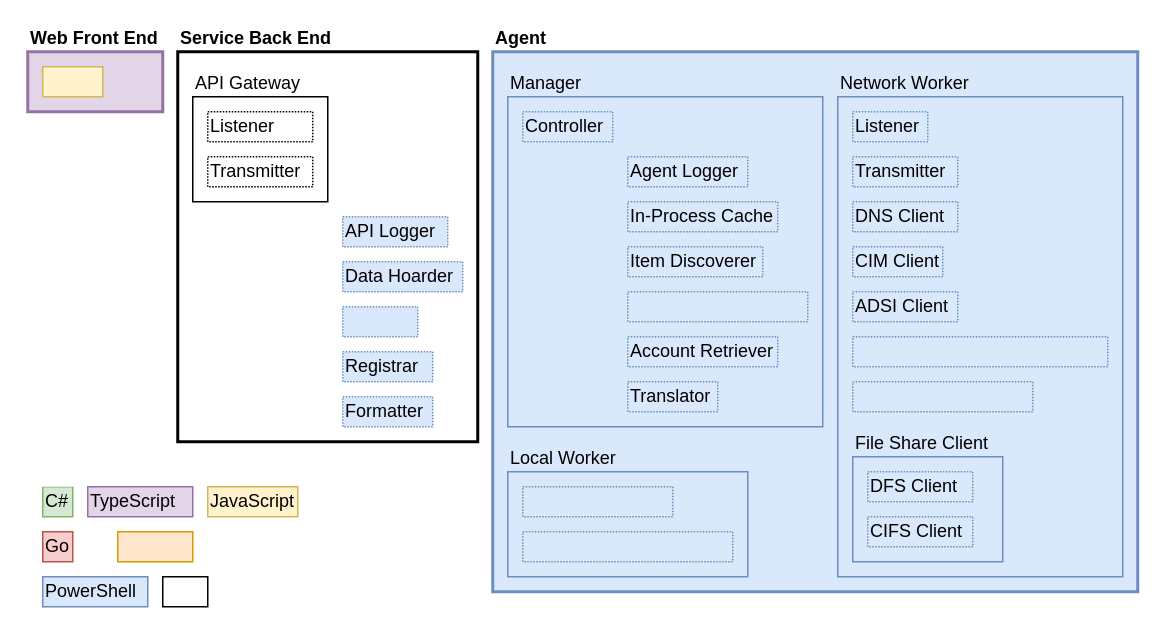
This 1164x633 diagram has some shape labels left out. The centre of each missing label's shape, as x and y in pixels:
"ActiveDirectorySecurity Client" goes at pixel 979 351.
"File System Client" goes at pixel 597 501.
"Handler" goes at pixel 379 321.
"LANGUAGE LEGEND" goes at pixel 124 471.
"N/A" goes at pixel 184 591.
"Node.js" goes at pixel 154 546.
"Permission Retriever" goes at pixel 717 306.
"PnP Core SDK Client" goes at pixel 942 396.
"React" goes at pixel 72 81.
"Windows Registry Client" goes at pixel 627 546.
